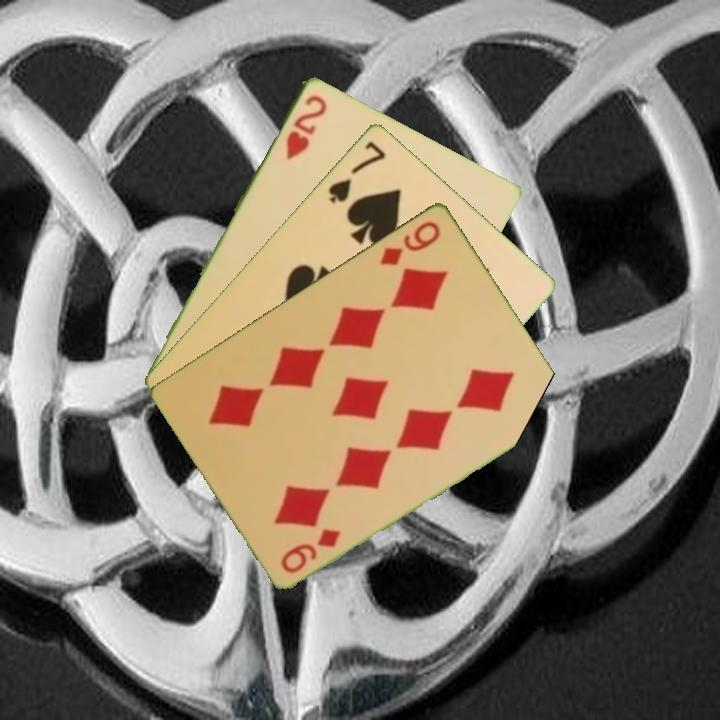2h: (282, 91, 330, 163)
7s: (324, 136, 389, 206)
9d: (376, 216, 444, 268), (277, 524, 344, 576)
